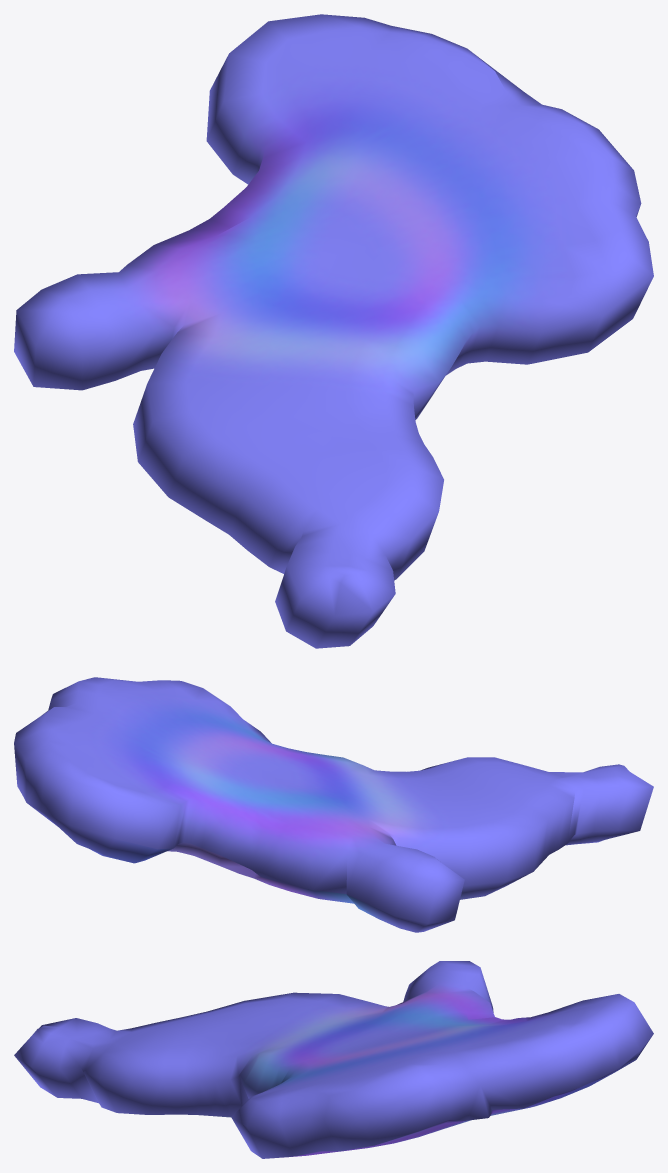
Rendered from p_mesh_trashbot_destruction_arenagoop02.fbx.
3 renders of one model, top to bottom at view 1: azimuth 30°, elevation 25°; view 2: azimuth 150°, elevation 25°; view 3: azimuth 270°, elevation 25°, orthographic. The views are drawn at different scales.
Visible parts, largest first — view 1: trashbot_destruction_goop2; view 2: trashbot_destruction_goop2; view 3: trashbot_destruction_goop2.
Boxes of the visible parts, x1,y1,x2,y2 form: trashbot_destruction_goop2: [14, 14, 653, 648]; trashbot_destruction_goop2: [14, 677, 653, 932]; trashbot_destruction_goop2: [14, 961, 653, 1158].
Size of the model in its own units: 21.69 by 10.08 by 28.69.
